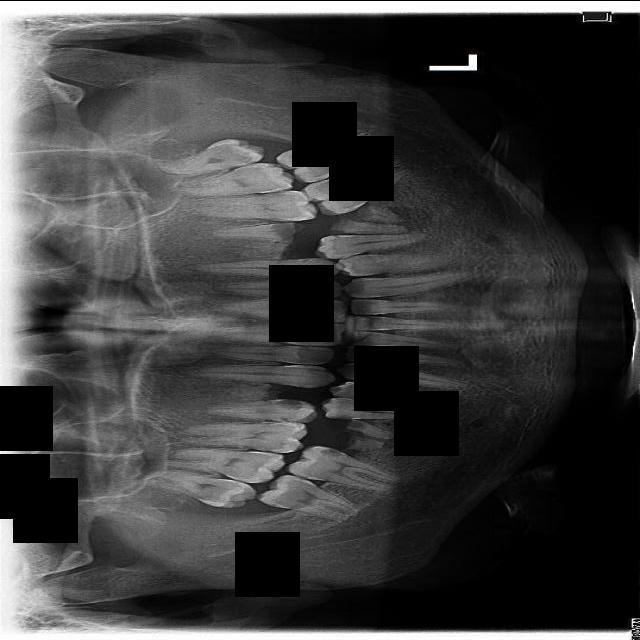72: (214, 223, 303, 245), (345, 416, 397, 444), (240, 236, 290, 263), (331, 218, 407, 235), (355, 203, 406, 223), (347, 434, 384, 453)
Sterngold Implant: (214, 136, 255, 167), (264, 397, 307, 411), (260, 440, 289, 457), (321, 445, 345, 461), (257, 189, 288, 200), (329, 409, 357, 421), (247, 457, 264, 474), (273, 421, 291, 427), (277, 416, 294, 422)
